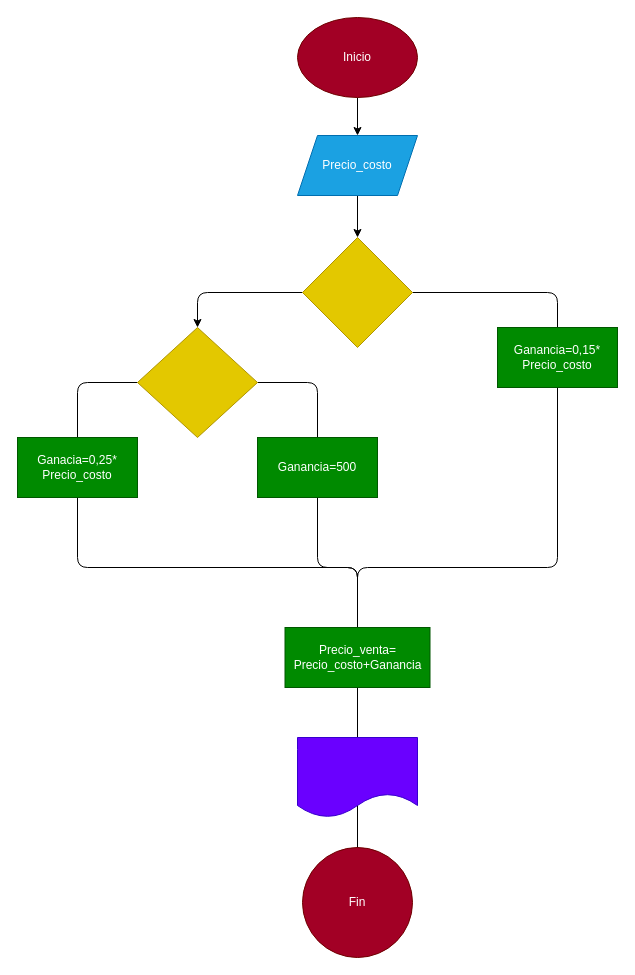
The diagram is 635 pixels wide and 975 high, and some of its shapes have lost their labels. Here are the shapes that lost their labels. From the top down, the centre of each, then its label:
At point 357,292: "Precio_costo <3000".
At point 197,382: "Precio_costo <=6000".
At point 357,777: "Precio_venta".
